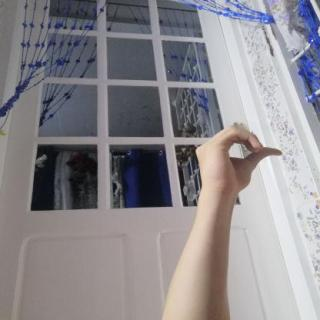WAW: (189, 119, 291, 203)
